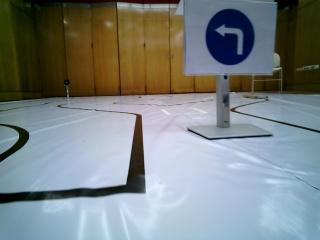left: (186, 6, 271, 69)
